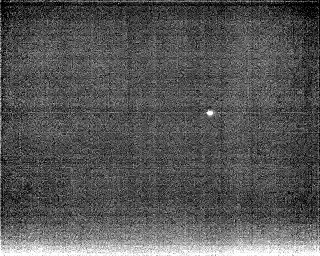AIRPLANE: (204, 108, 215, 118)
